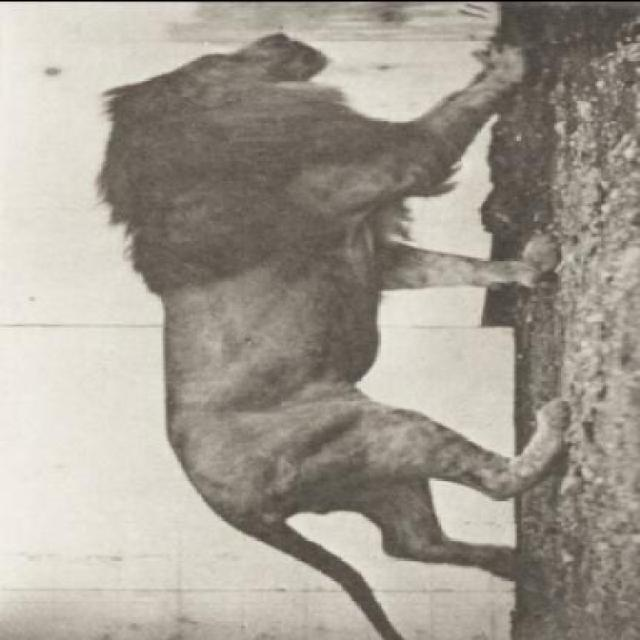Lion: (69, 1, 600, 637)
